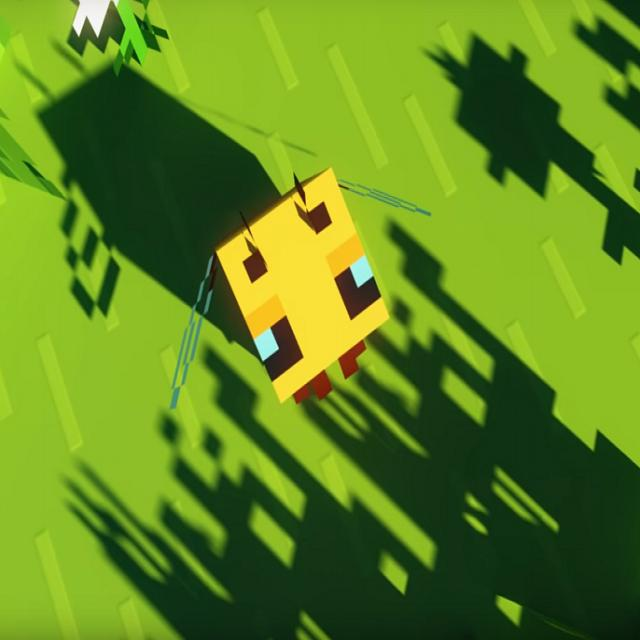Bee: (165, 162, 435, 440)
